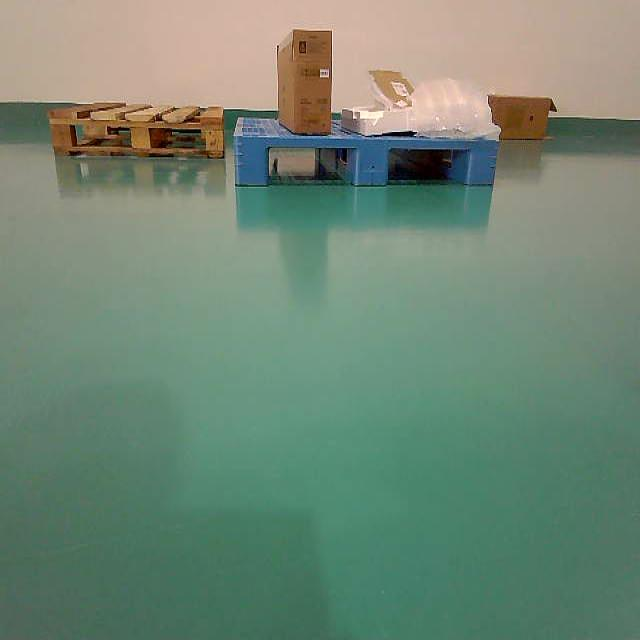euro: (50, 103, 224, 157)
